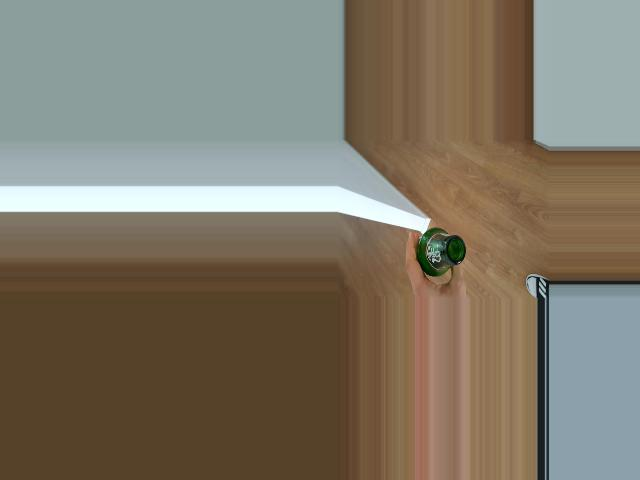beer: (417, 227, 465, 278)
